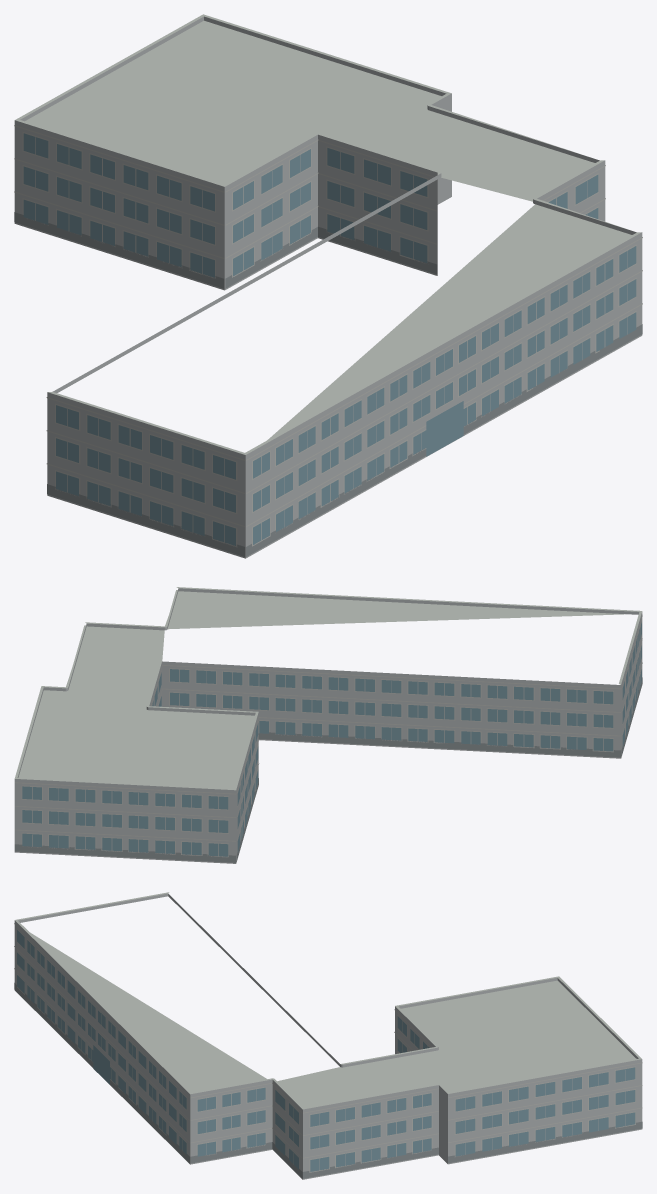
Rendered from public-902d7115-e9c5-4af0-b5d5-47ded2200cbf.glb.
The picture shows the model from 3 angles, top to bottom: view 1: azimuth 30°, elevation 25°; view 2: azimuth 150°, elevation 25°; view 3: azimuth 270°, elevation 25°; orthographic projection. The views are drawn at different scales.
Parts seen in each view (by area): view 1: public-902d7115-e9c5-4af0-b5d5-47ded2200cbf; view 2: public-902d7115-e9c5-4af0-b5d5-47ded2200cbf; view 3: public-902d7115-e9c5-4af0-b5d5-47ded2200cbf.
Part boxes in pixels (<box>): public-902d7115-e9c5-4af0-b5d5-47ded2200cbf: <box>14,14,642,558</box>; public-902d7115-e9c5-4af0-b5d5-47ded2200cbf: <box>14,587,642,863</box>; public-902d7115-e9c5-4af0-b5d5-47ded2200cbf: <box>14,892,642,1179</box>.
Bounding box in the file's own units: 60.78 × 9.15 × 74.15.
